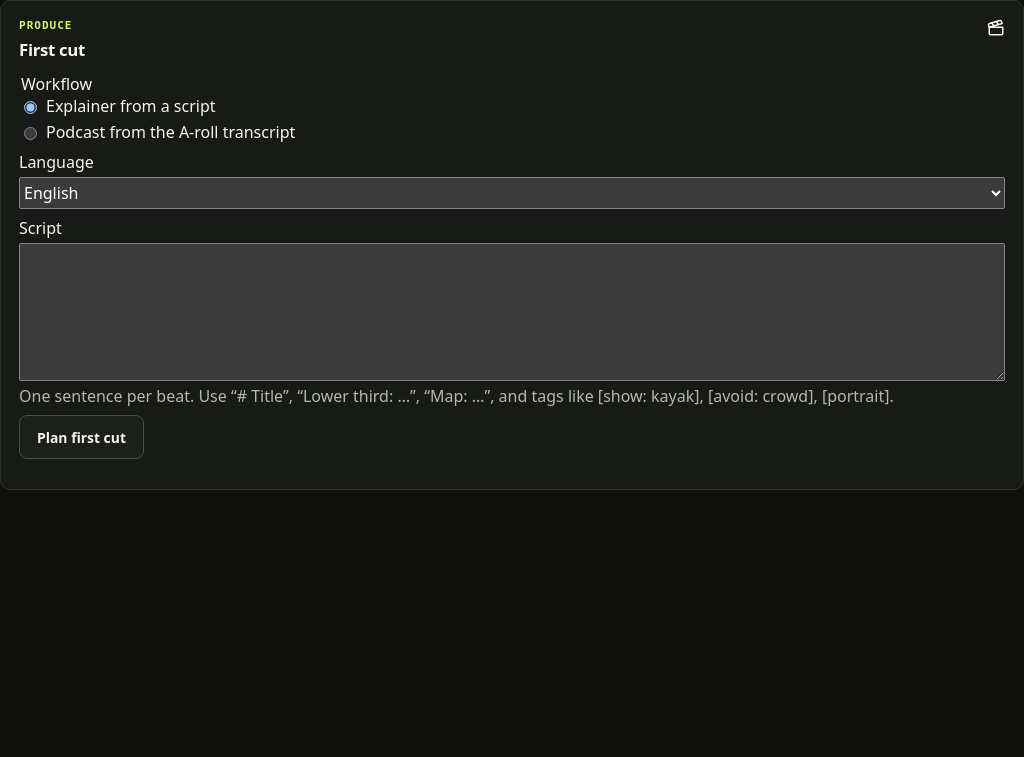
Test case: ProducePanel › plans a podcast cut from the A-roll transcript
Click the radio button labelled "Podcast from the A-roll transcript": [30, 134] box 24,127 -> 37,140
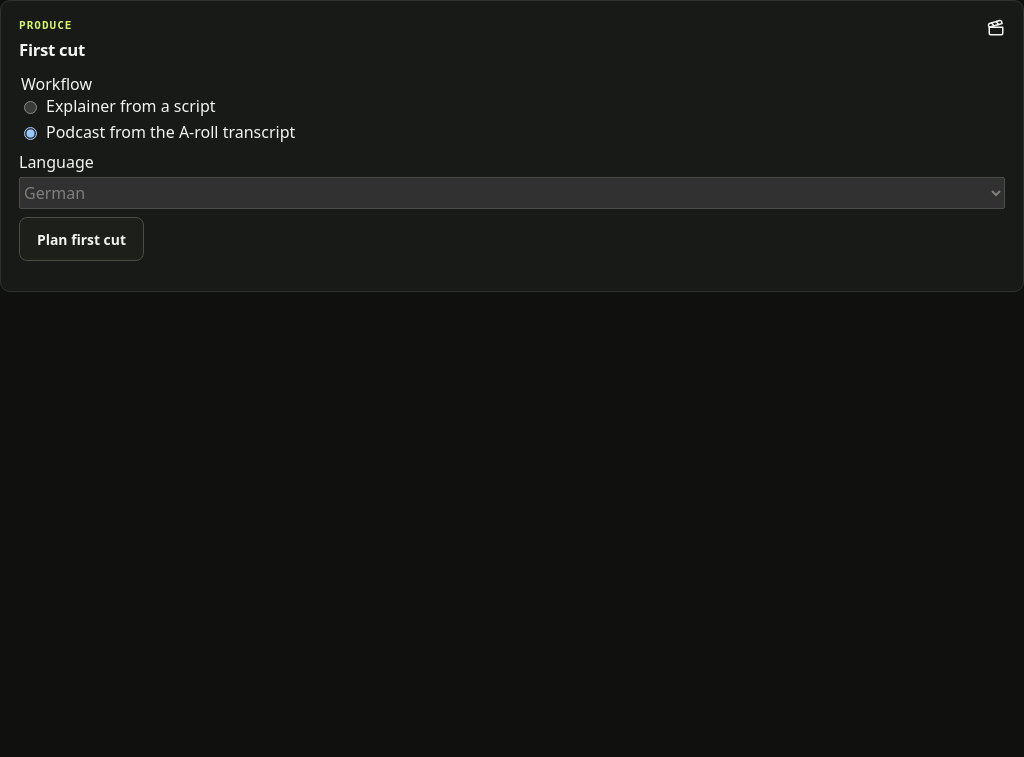
Click the button "Plan first cut": [82, 239] box 19,217 -> 144,261
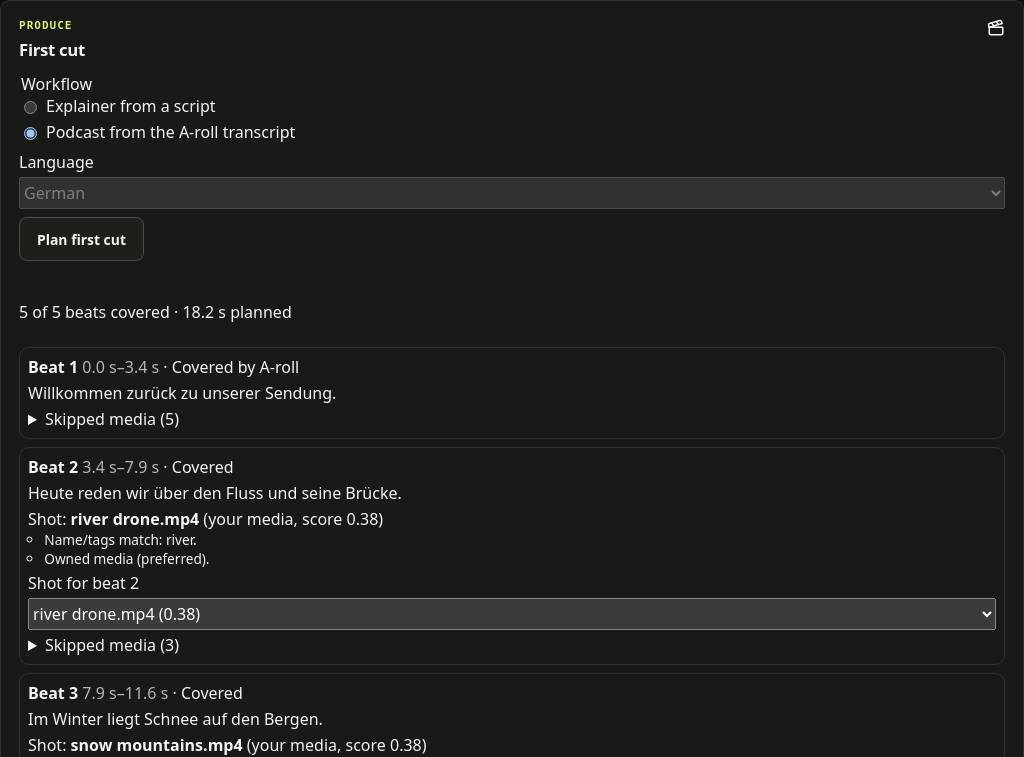
Result: the text "Beat 1 0.0 s–3.4 s · Covered by A-roll" is shown 3 times
Result: the text "river drone.mp4" is shown at 71,508 -> 199,530
